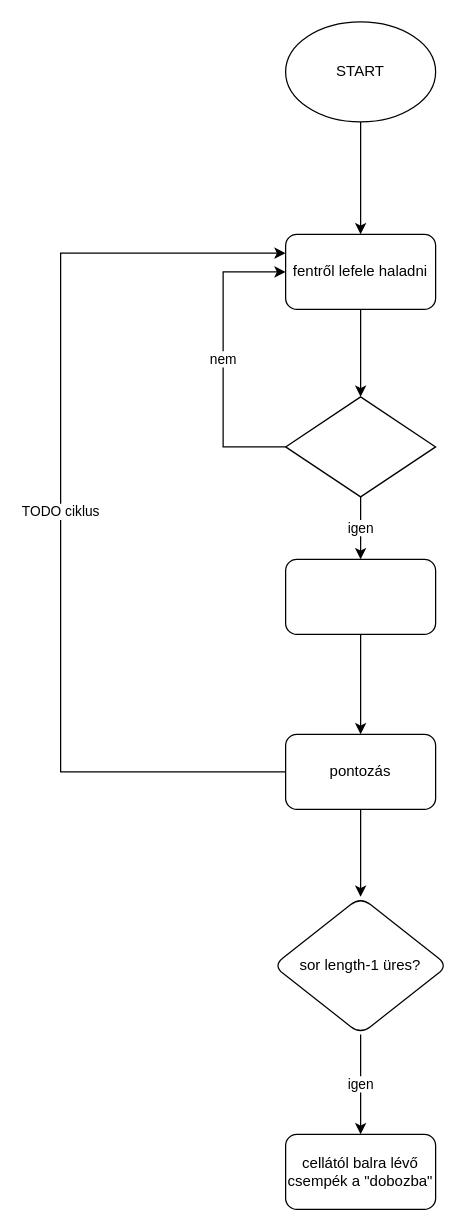
This 470x1231 diagram has some shape labels left out. Each missing label, with the centre of its shape:
sor size==length-1: (360,446)
szín azonos sorba: (360,596)
